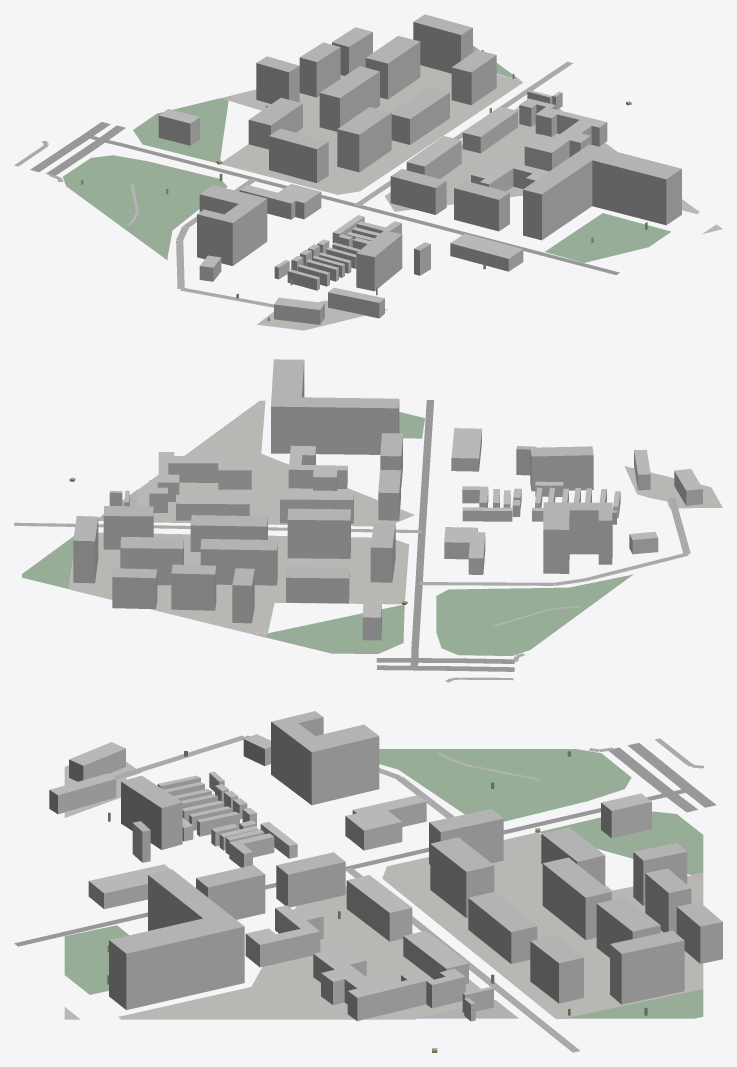
3 views of the same model, one above another, from view 1: azimuth 30°, elevation 25°; view 2: azimuth 150°, elevation 25°; view 3: azimuth 270°, elevation 25° (orthographic). The views are drawn at different scales.
Size of the model in its own units: 589 by 48.81 by 555.
